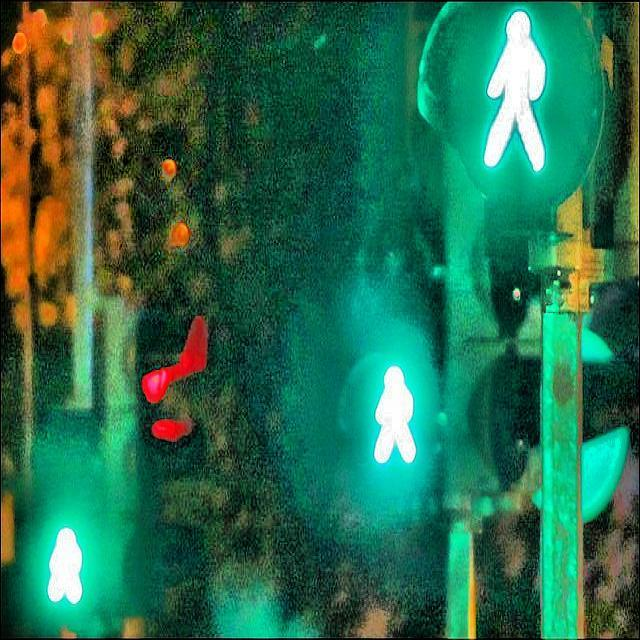green_light: (479, 2, 551, 178), (371, 356, 419, 469), (44, 520, 85, 610)
